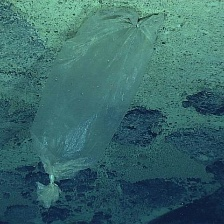plastic_bag: (21, 3, 170, 210)
